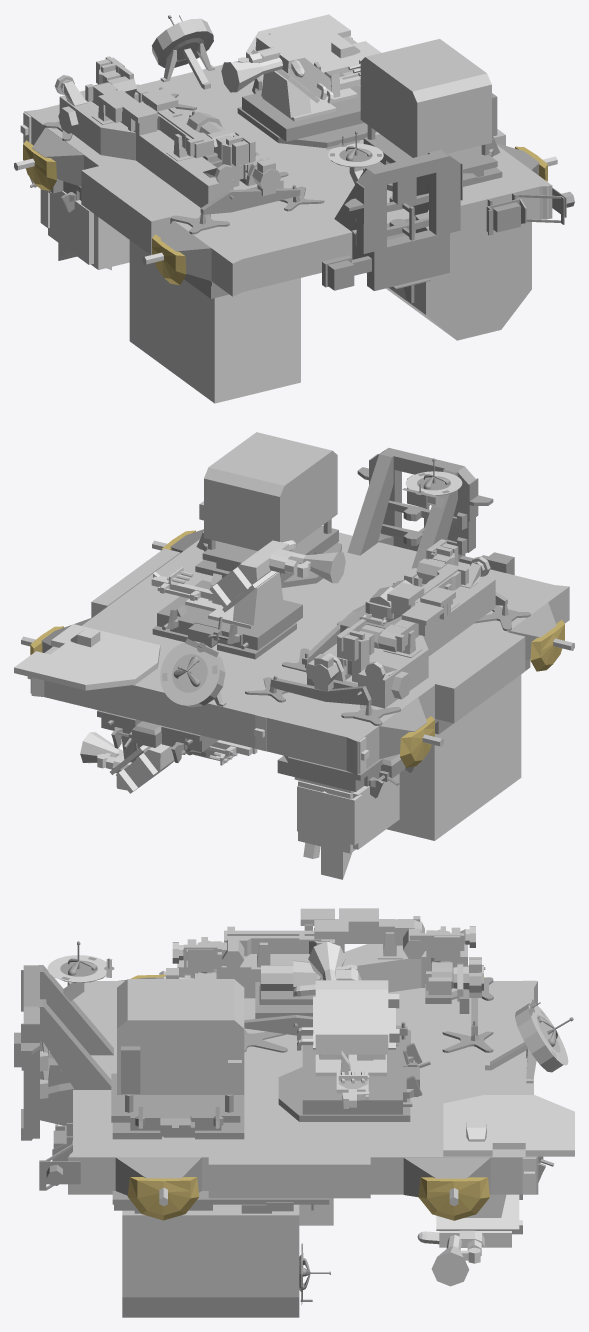
Rendered from ELC3.glb.
3 views of the same model, one above another, from view 1: azimuth 30°, elevation 25°; view 2: azimuth 150°, elevation 25°; view 3: azimuth 270°, elevation 25° (orthographic). The views are drawn at different scales.
Visible parts, largest first — view 1: ELC3; view 2: ELC3; view 3: ELC3.
Boxes of the visible parts, x1=… form: ELC3: x1=14, y1=14, x2=574, y2=403; ELC3: x1=14, y1=432, x2=574, y2=879; ELC3: x1=14, y1=908, x2=574, y2=1317.
Bounding box in the file's own units: 208 × 130 × 217.
